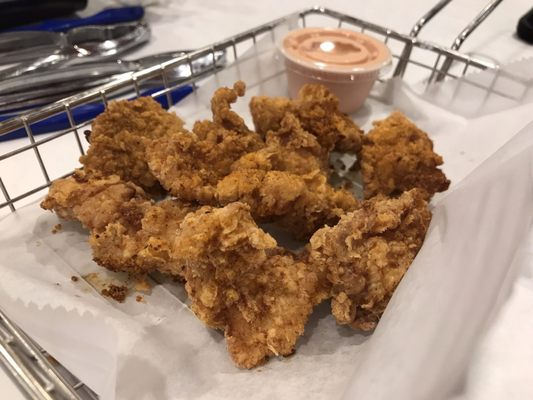sushi: (281, 28, 392, 115)
